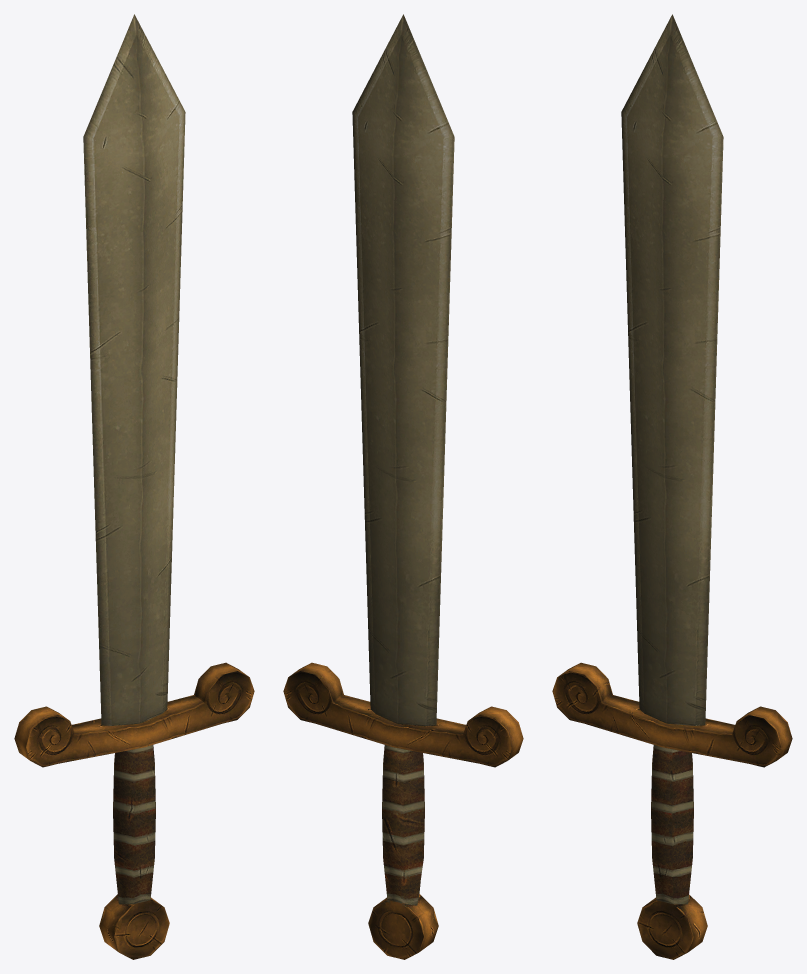
The model's file is sword_cute.obj.
The picture shows the model from 3 angles, left to right: view 1: azimuth 30°, elevation 25°; view 2: azimuth 150°, elevation 25°; view 3: azimuth 330°, elevation 25°; orthographic projection.
Visible parts, largest first — view 1: sword_cute; view 2: sword_cute; view 3: sword_cute.
Boxes of the visible parts, x1=… form: sword_cute: x1=14, y1=14, x2=254, y2=959; sword_cute: x1=283, y1=14, x2=523, y2=959; sword_cute: x1=552, y1=14, x2=792, y2=959.
Bounding box in the file's own units: 58.12 × 228 × 9.43.
1 material, 1 textured.
